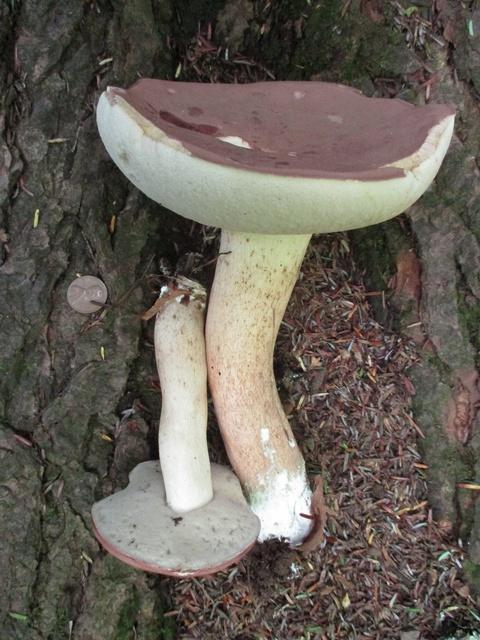Non-edible Mushroom: (92, 75, 457, 551)
